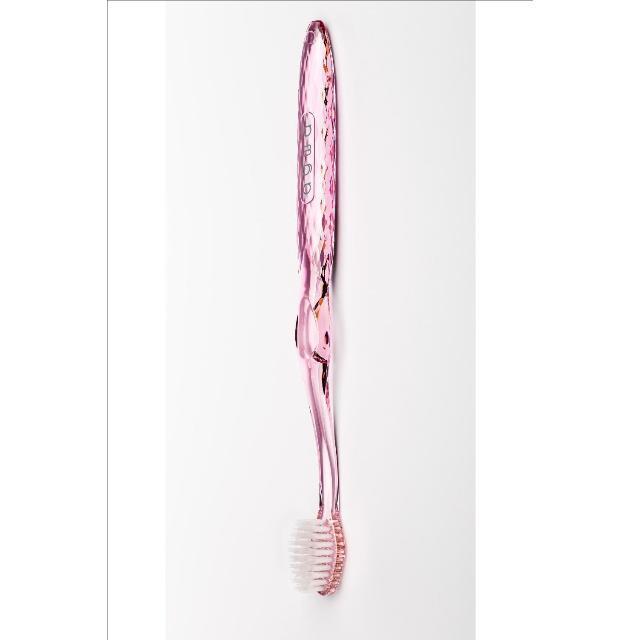toothbrush: (262, 21, 370, 622)
